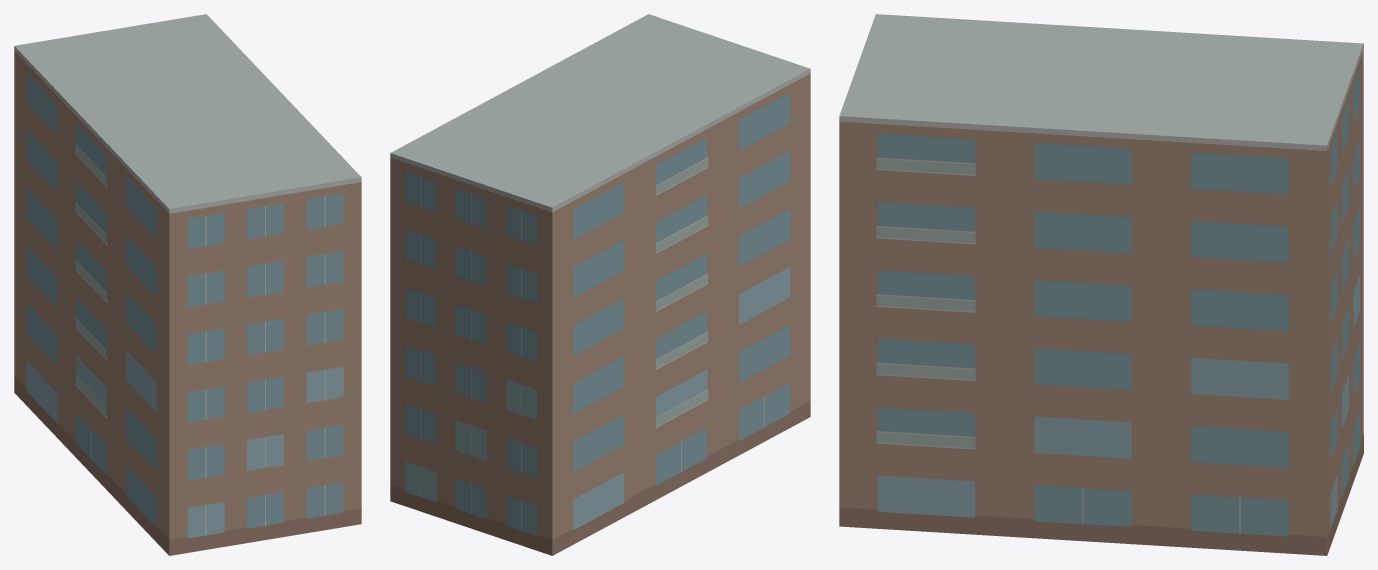
File: survey-upis-33034101.glb
3 views of the same model, side by side, from view 1: azimuth 30°, elevation 25°; view 2: azimuth 150°, elevation 25°; view 3: azimuth 270°, elevation 25° (orthographic). The views are drawn at different scales.
Visible parts, largest first — view 1: survey-upis-33034101.tmp; view 2: survey-upis-33034101.tmp; view 3: survey-upis-33034101.tmp.
Part boxes in pixels (x1,y1,x2,y2): survey-upis-33034101.tmp: (14,14,361,555); survey-upis-33034101.tmp: (390,14,810,555); survey-upis-33034101.tmp: (839,14,1363,555).
Bounding box in the file's own units: 12.6 × 18.3 × 21.21.
